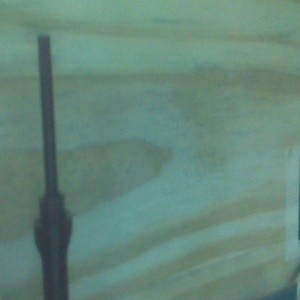obeng: (30, 33, 74, 300)
